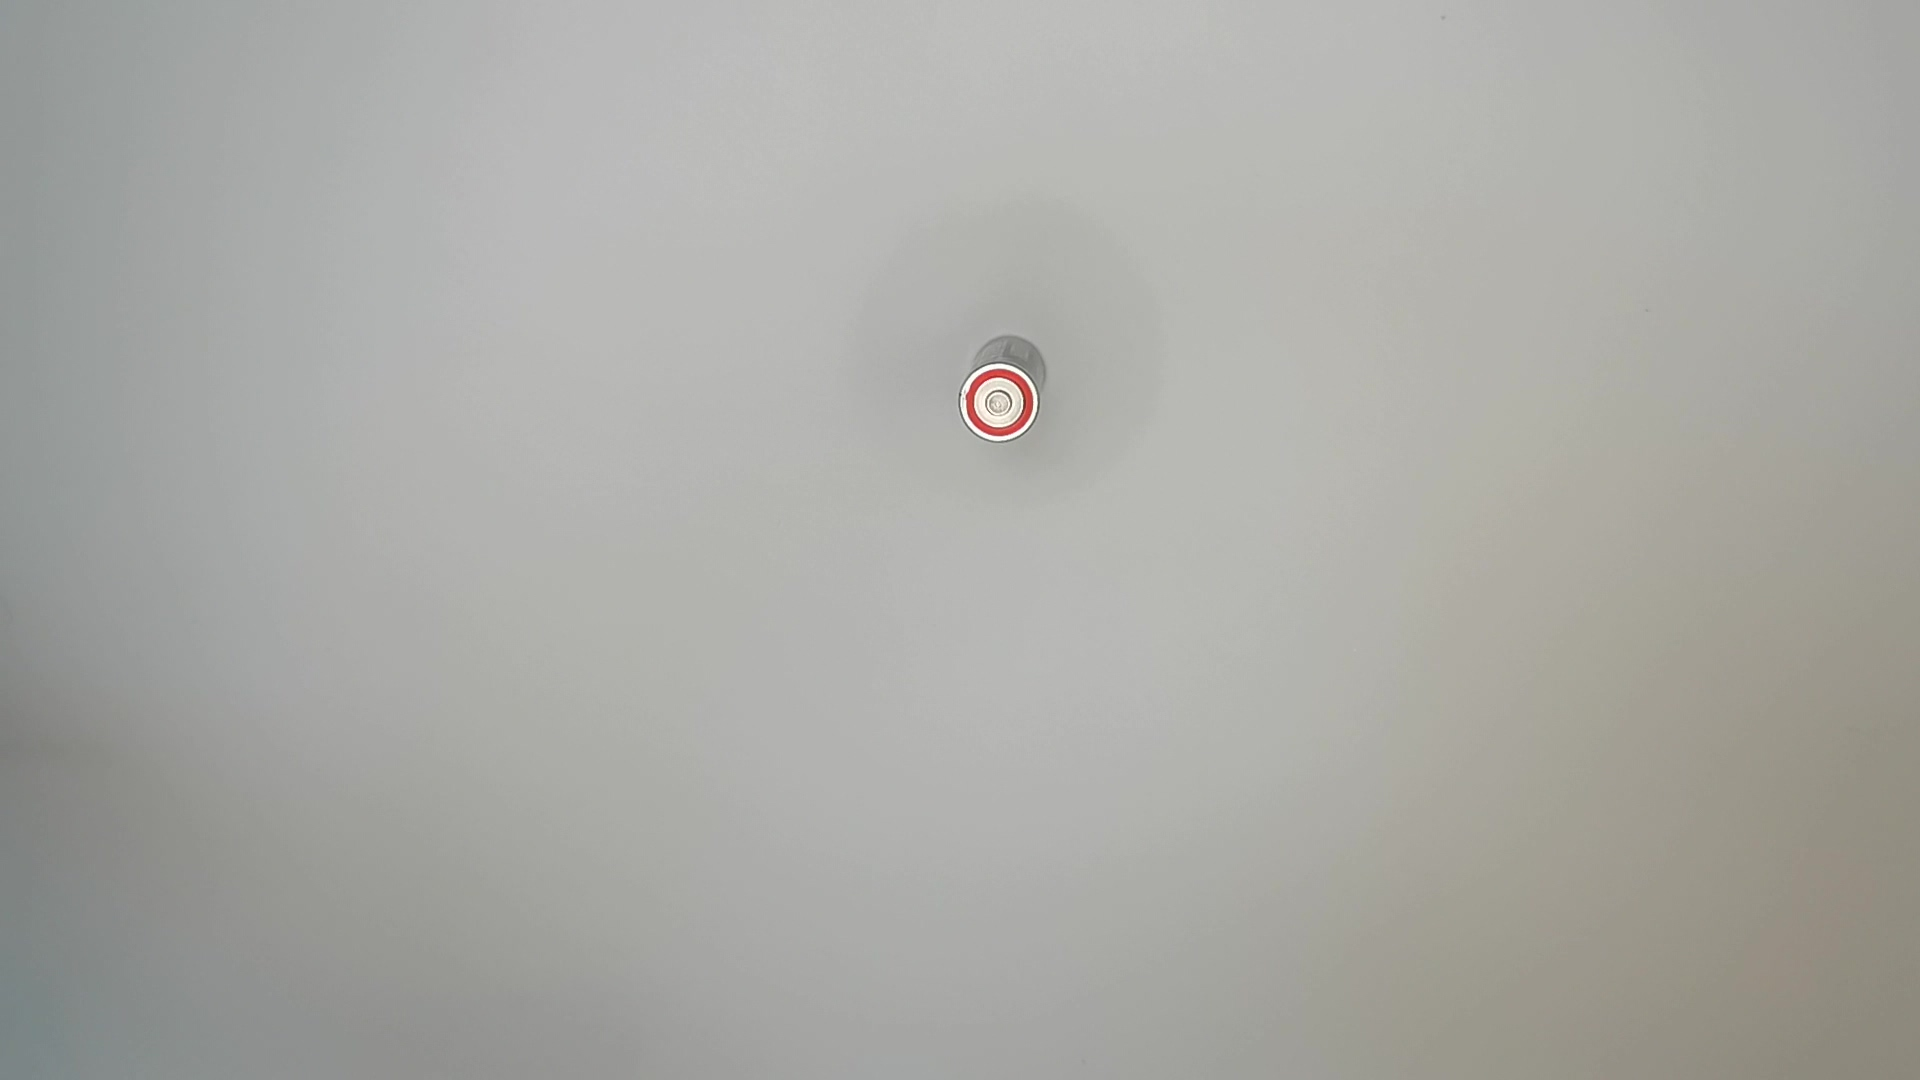battery: (959, 335, 1058, 448)
